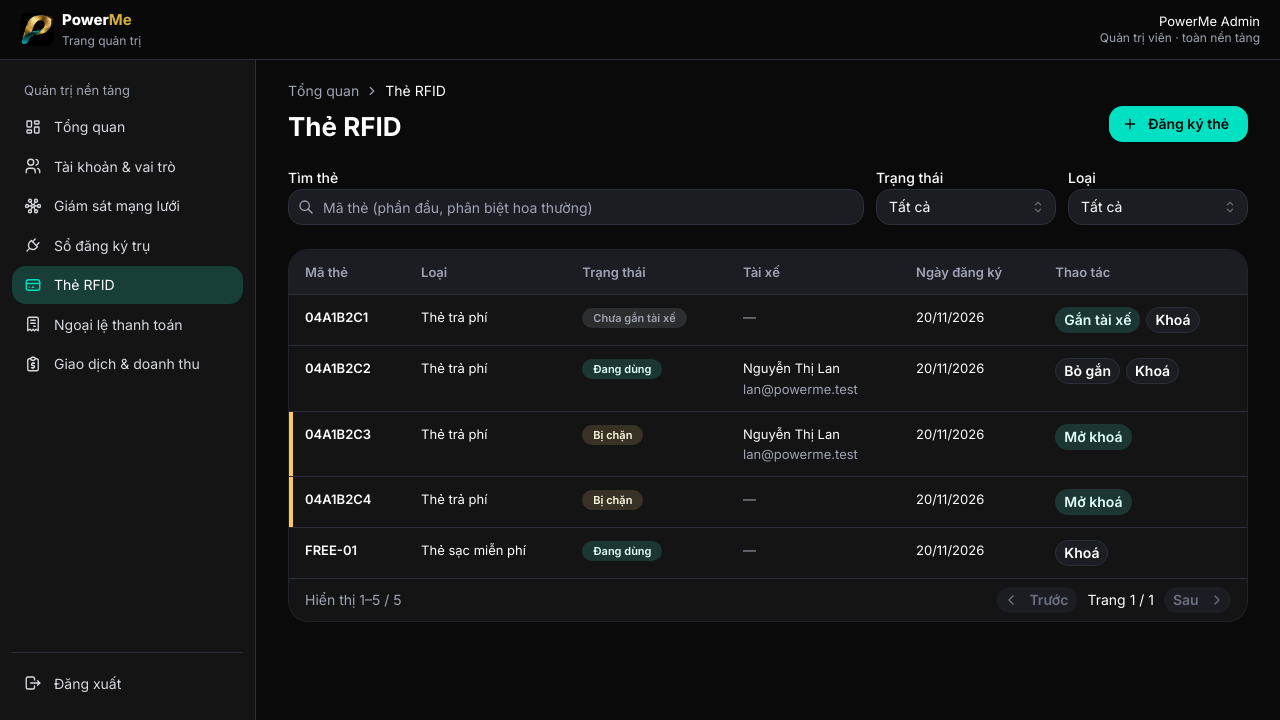
Test: Thẻ RFID (màn 30) › shows the 409 text of a duplicate card identifier in the dialog
Check: the row named "Thẻ 04A1B2C1" is shown, box [289,295,1247,346]
Click the button "Đăng ký thẻ" at (1178, 124), box [1109,106,1248,142]
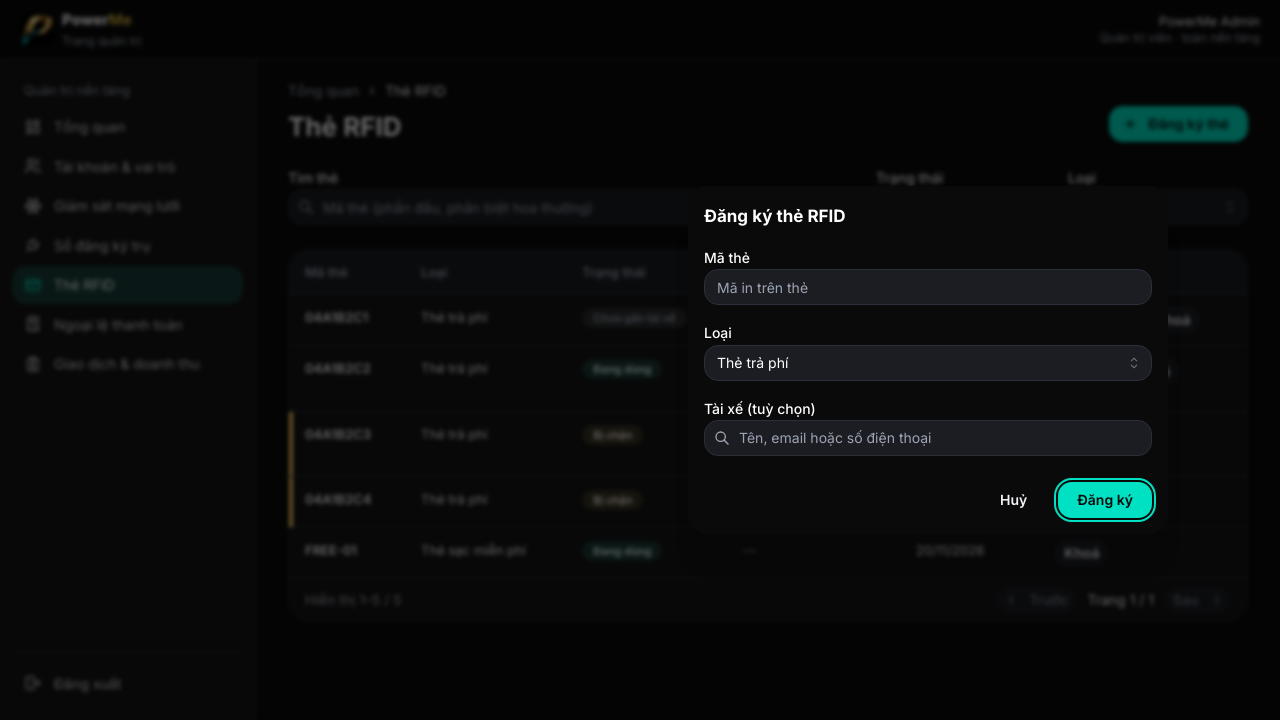
Type "04A1B2C1" into the field labelled "Mã thẻ" at (928, 287), box [704,269,1152,305]
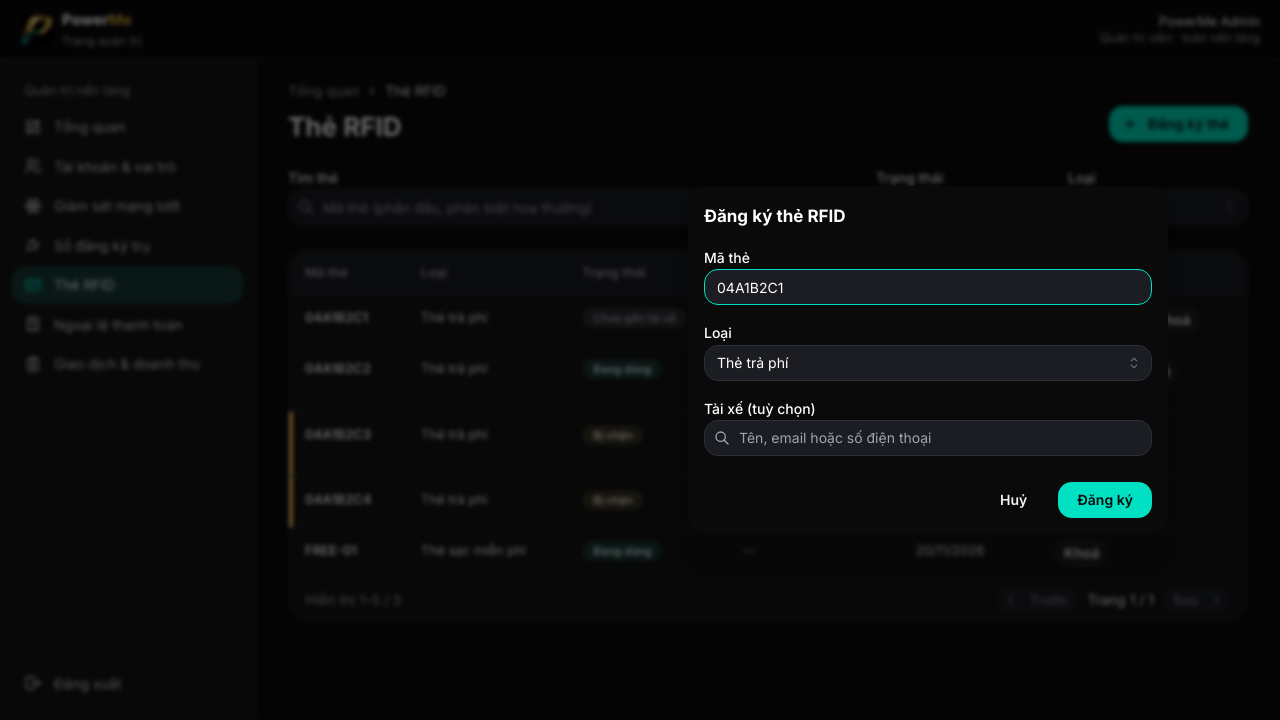
Click the button "Đăng ký" at (1105, 500), box [1058,482,1152,518]
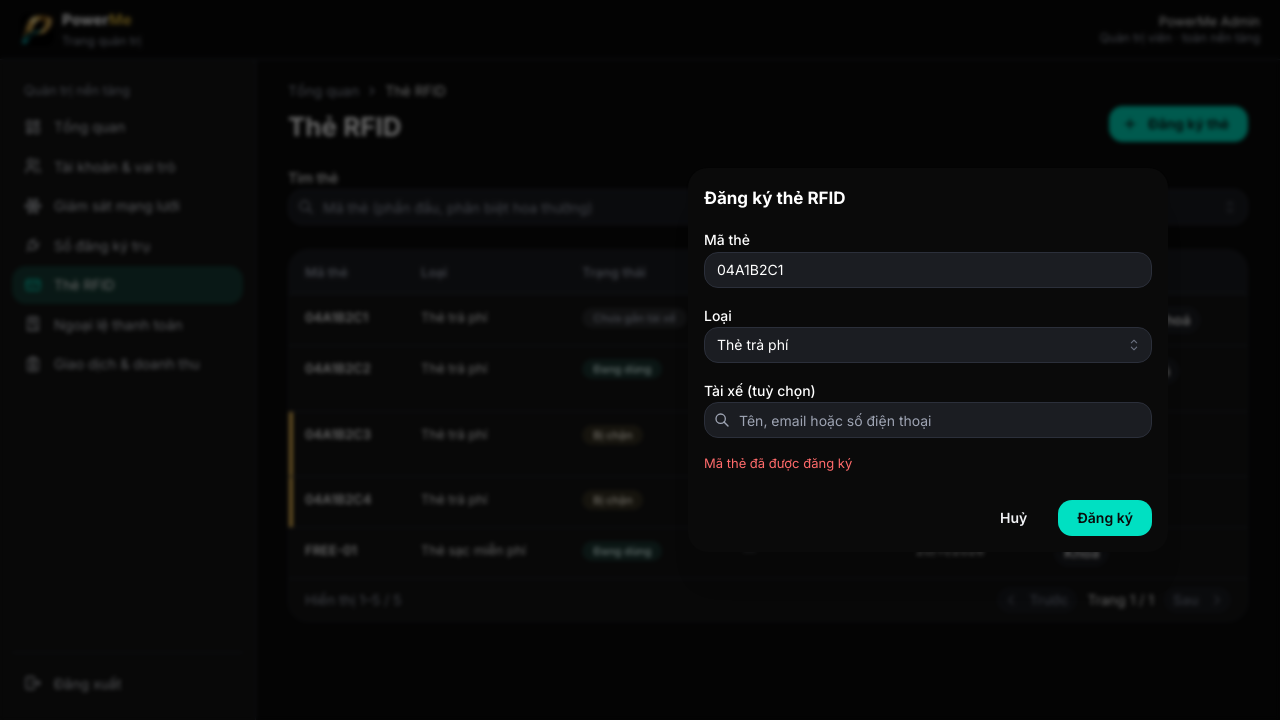
Check: the message reads "Mã thẻ đã được đăng ký", box [704,455,852,471]
